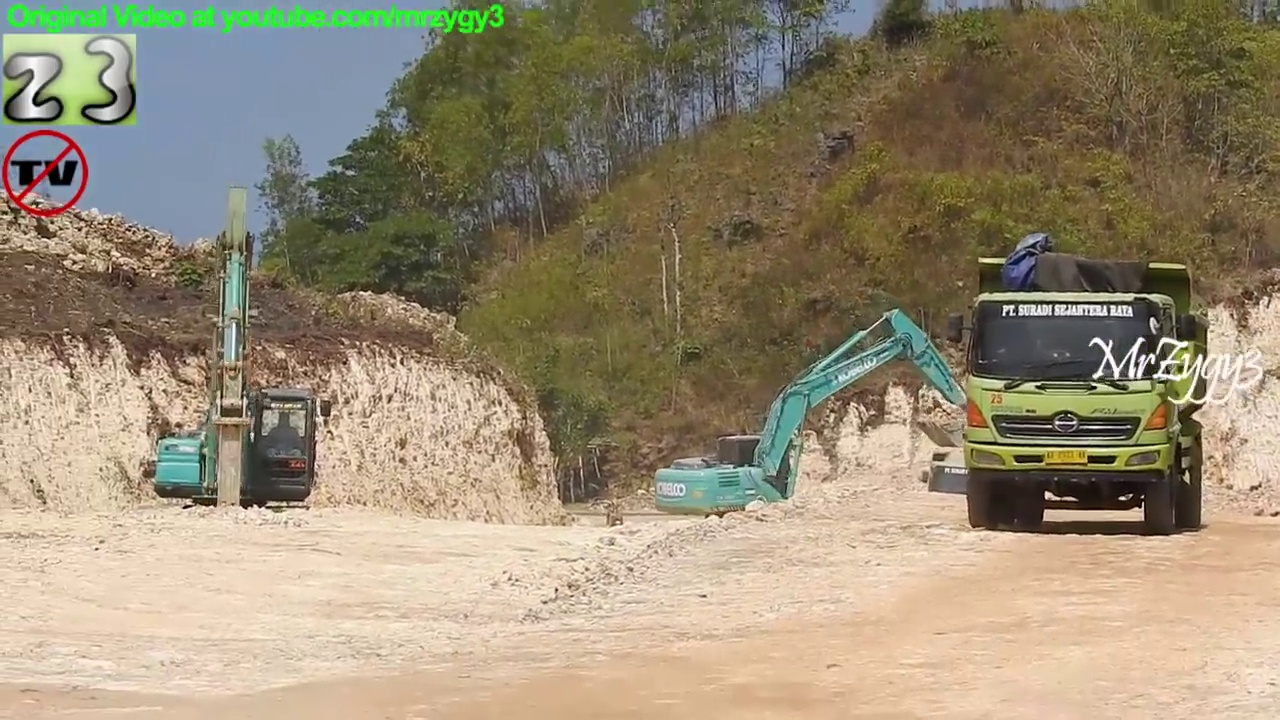excavator: (650, 302, 985, 548), (144, 182, 337, 559)
truck: (940, 250, 1215, 538), (916, 443, 1020, 557)
